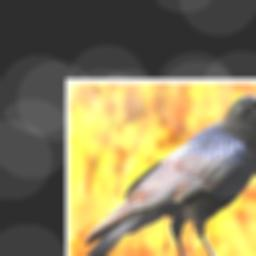Crow: (77, 91, 256, 256)
